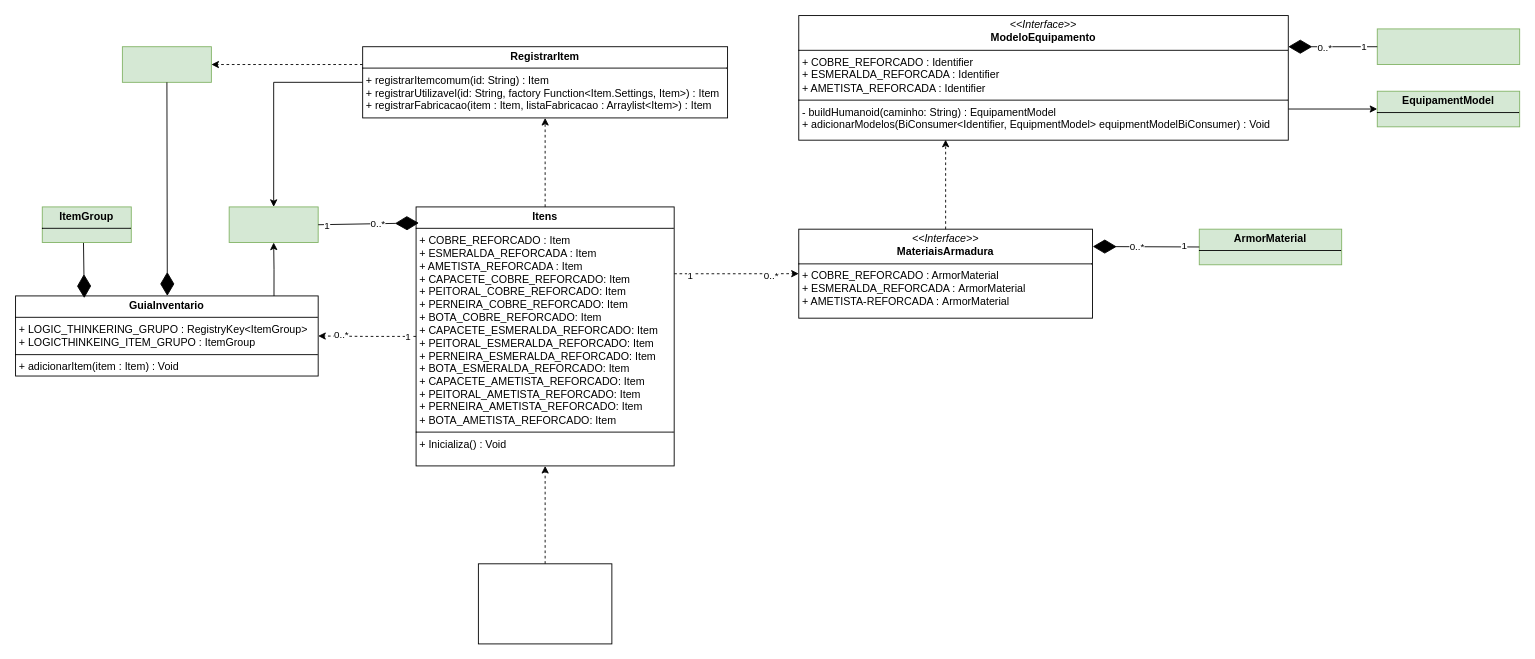
Image size: 1535x659. Some labels were removed from this diagram. Each missing label, with the centre of its shape:
"Identifier" goes at [1448,46].
"Item" goes at [273,224].
"Main + MOD_ID : String + LOGGER : Logger + onInitialize() : Void" goes at [544,603].
"RegistryKey" goes at [166,64].
